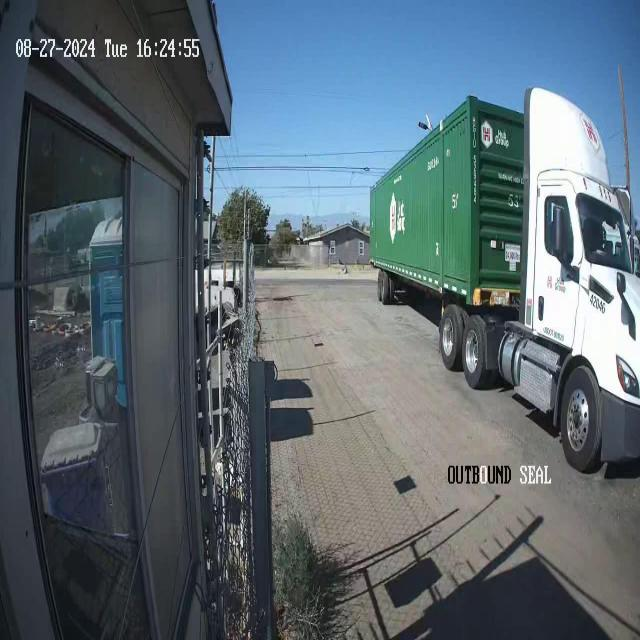TRUCK_CONTAINER: (368, 81, 639, 475)
